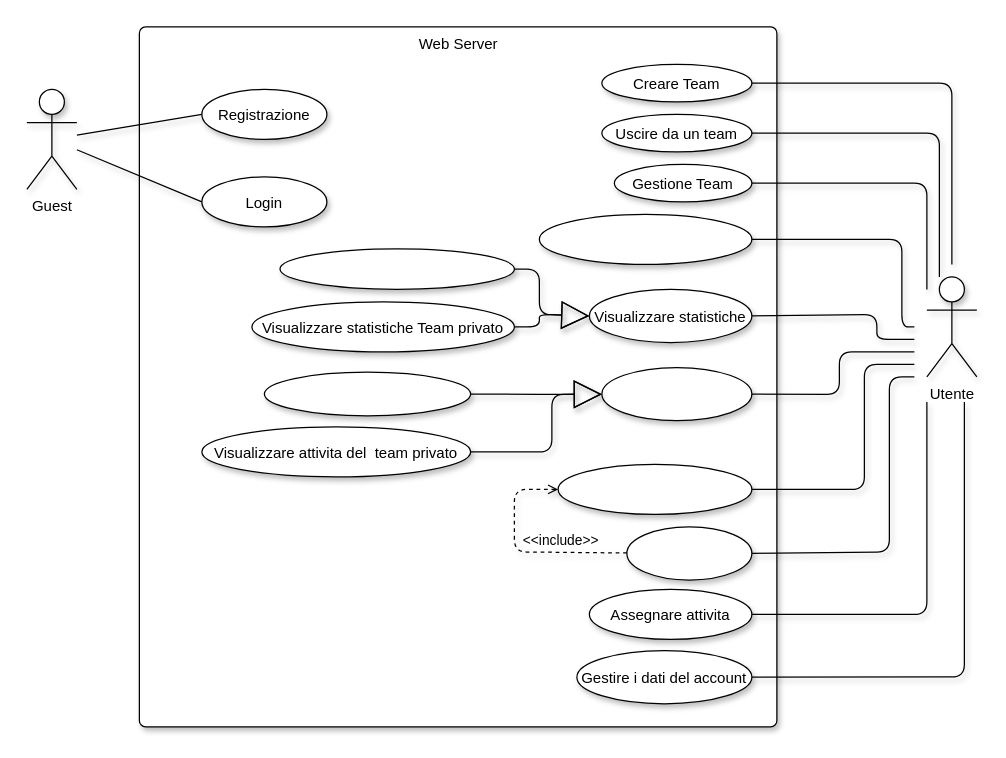
Some shapes in this 1006 by 758 pixel diagram are drawn without their labels. Here are the shapes that lost their labels. From the top down, the centre of each, then its label:
At (646,240): "Visualizza i team dell'utente".
At (398,270): "Visualizzare statistiche del Team".
At (368,395): "Visualizzare attivita del team".
At (677,395): "Visualizzare attivita".
At (655,490): "VIsualizza dettagli attivita".
At (690,555): "Gestire attivita".
